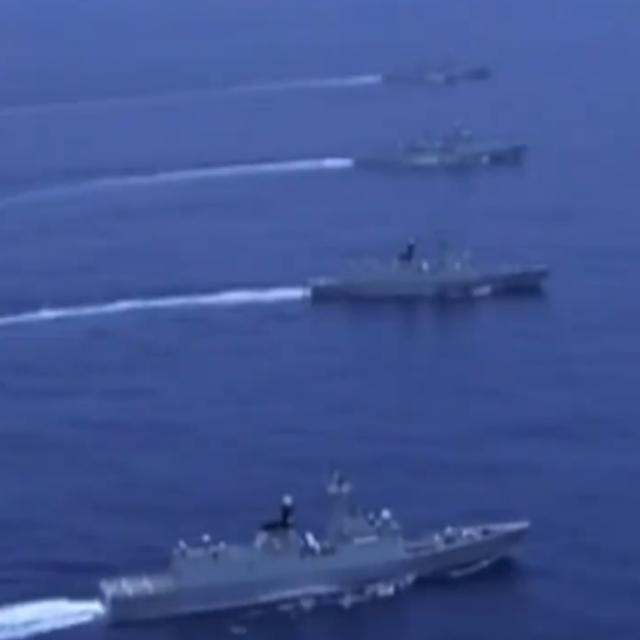navalvessels: (92, 462, 534, 612), (308, 231, 554, 306), (349, 120, 527, 174), (381, 48, 492, 92)
